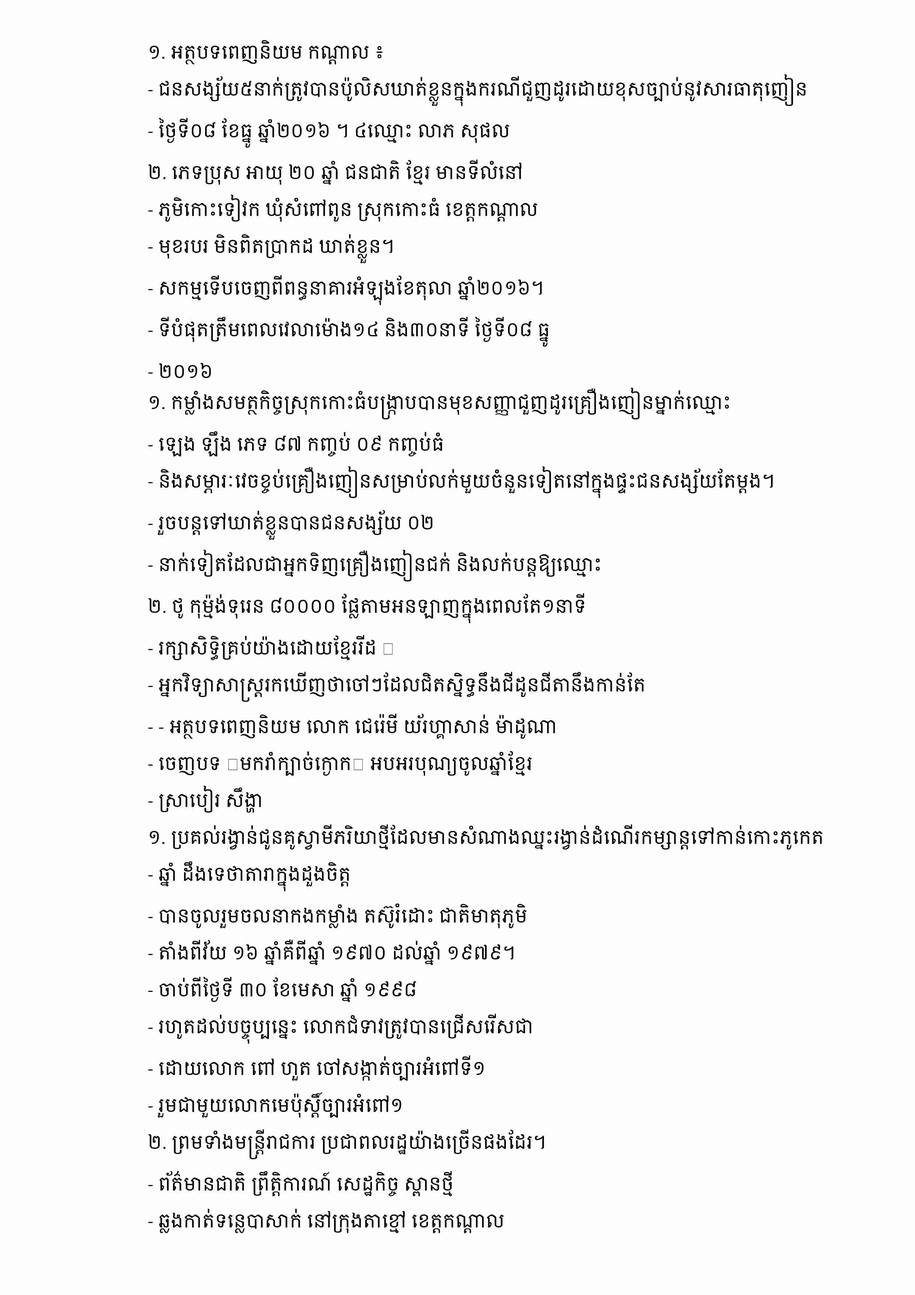text: (148, 74, 812, 106), (148, 466, 780, 498), (148, 388, 736, 420), (148, 824, 829, 850), (148, 672, 650, 702), (148, 550, 607, 582), (148, 593, 591, 624), (148, 1129, 551, 1160), (148, 317, 555, 347), (148, 275, 549, 305), (148, 1014, 538, 1044), (148, 118, 515, 148), (148, 195, 543, 222), (148, 714, 562, 739), (148, 159, 528, 185), (148, 751, 538, 776), (148, 903, 532, 928), (148, 940, 521, 965), (148, 1055, 490, 1081), (148, 510, 439, 540), (148, 1209, 510, 1233), (148, 431, 449, 457), (148, 1171, 459, 1196), (148, 234, 400, 264), (148, 977, 422, 1002), (148, 1092, 408, 1118), (148, 861, 356, 892), (148, 635, 400, 660), (148, 40, 389, 65), (148, 786, 268, 813), (148, 363, 218, 378)
